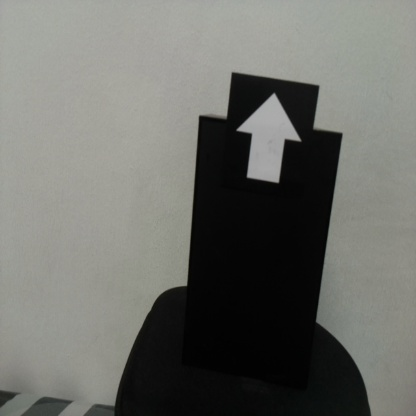id_1: (231, 75, 317, 210)
